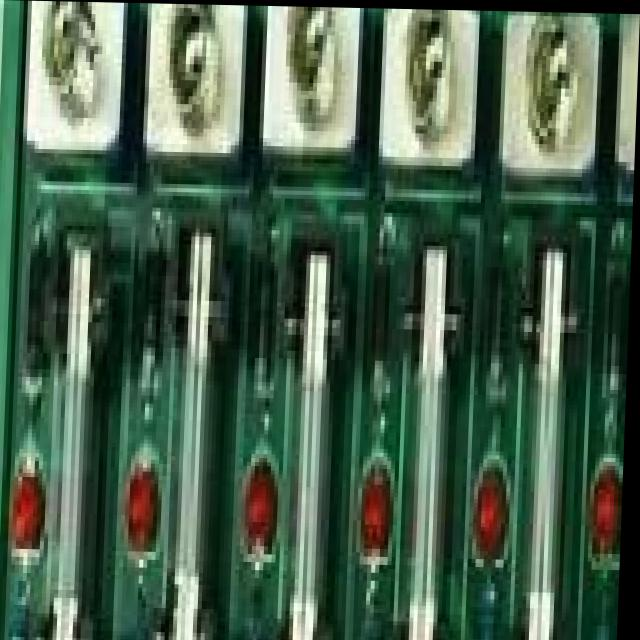LED: (360, 447, 407, 565), (475, 445, 515, 581), (246, 437, 283, 551), (132, 431, 164, 557), (14, 441, 47, 563), (592, 463, 627, 567)
diode: (601, 215, 634, 441), (255, 225, 290, 393), (27, 209, 58, 389), (141, 227, 173, 395), (373, 227, 398, 381), (491, 237, 513, 391)
fuse: (161, 191, 247, 640), (273, 197, 358, 640), (513, 221, 590, 640), (49, 193, 114, 640), (401, 219, 466, 640)
resistor: (357, 571, 408, 640), (477, 569, 516, 640), (241, 585, 279, 640), (13, 573, 39, 640), (585, 591, 619, 640), (121, 634, 158, 640)
switch: (255, 5, 364, 178), (503, 9, 612, 171), (140, 3, 260, 149), (23, 0, 124, 170), (376, 7, 480, 144), (616, 11, 640, 151)
